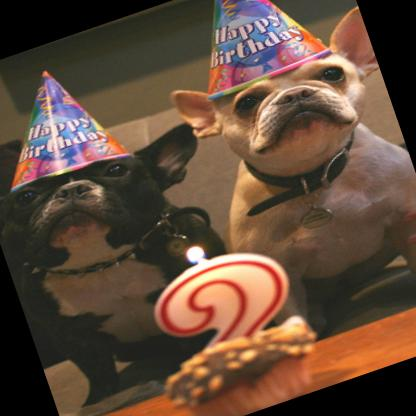French_bulldog: (140, 0, 416, 357), (0, 116, 281, 415)
